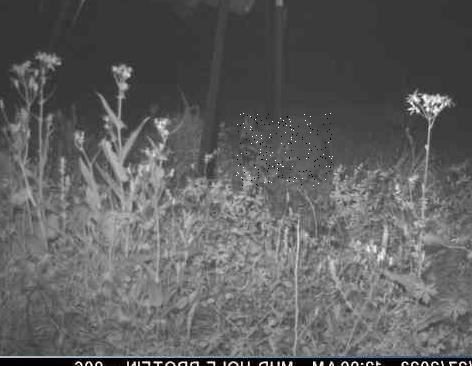Raccoon: (235, 113, 332, 186)
